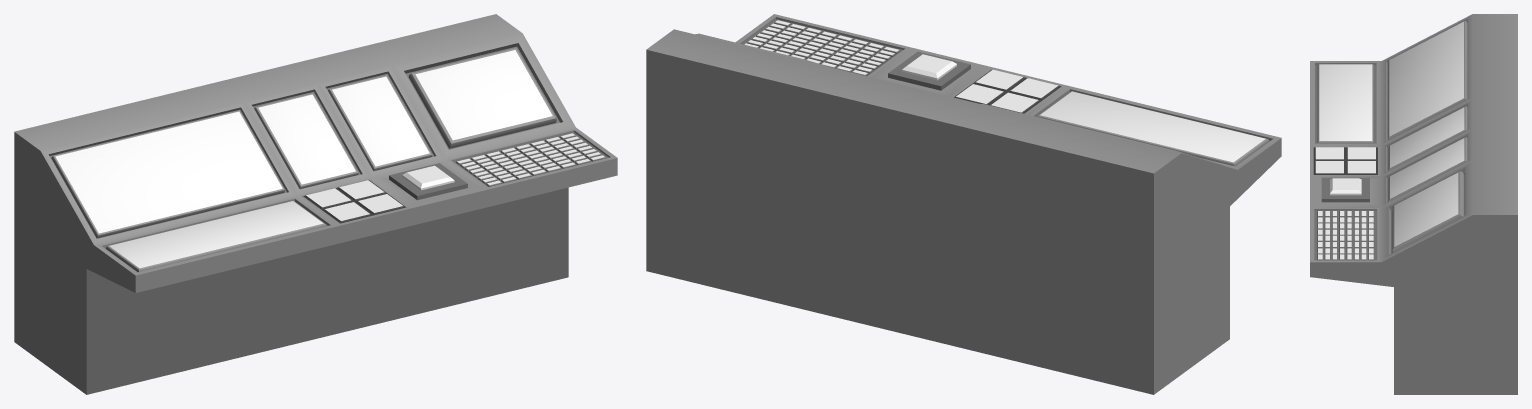
The model's file is Lab_Pc.fbx.
3 renders of one model, left to right at view 1: azimuth 30°, elevation 25°; view 2: azimuth 150°, elevation 25°; view 3: azimuth 270°, elevation 25°, orthographic. The views are drawn at different scales.
Visible parts, largest first — view 1: Cube.027; view 2: Cube.027; view 3: Cube.027.
Part boxes in pixels (x1,y1,x2,y2): Cube.027: [14, 14, 617, 394]; Cube.027: [646, 14, 1281, 394]; Cube.027: [1310, 14, 1517, 394].
Bounding box in the file's own units: 367 × 153 × 160.
